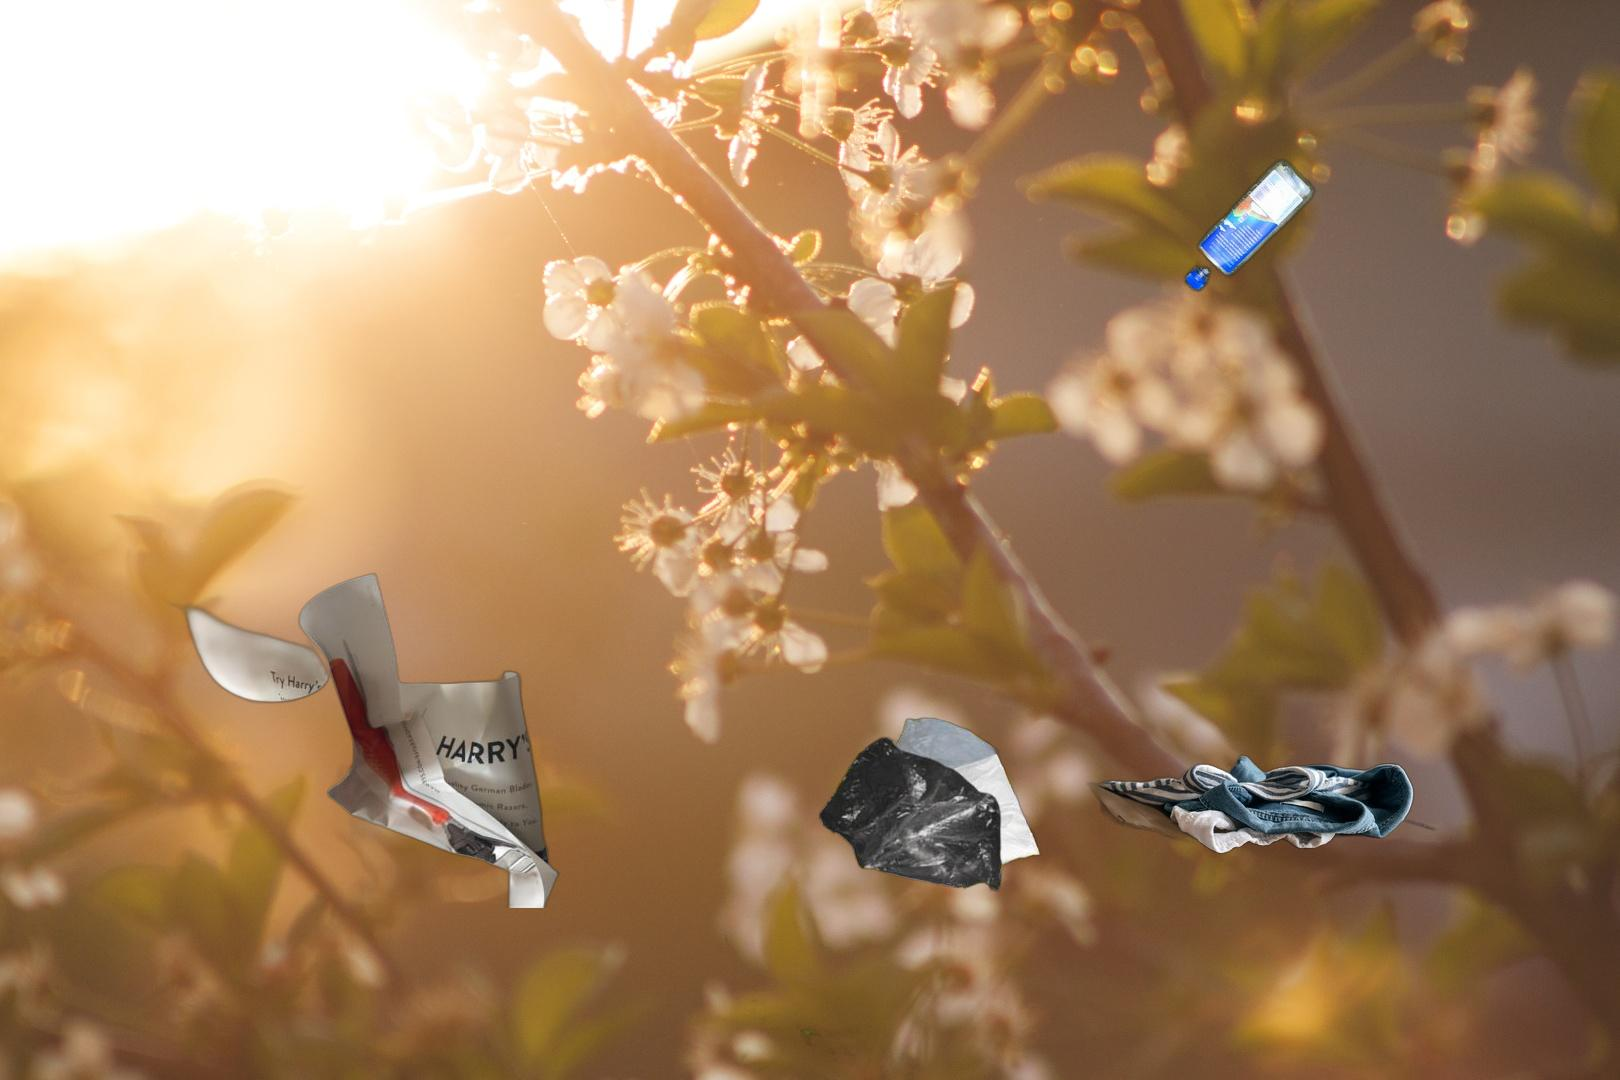biological: (715, 911, 940, 1080)
paper: (158, 573, 563, 908)
plastic-bag: (817, 715, 1043, 914)
plastic-bottles: (1181, 155, 1319, 297)
trashbox-cardboard: (1085, 753, 1437, 857)
